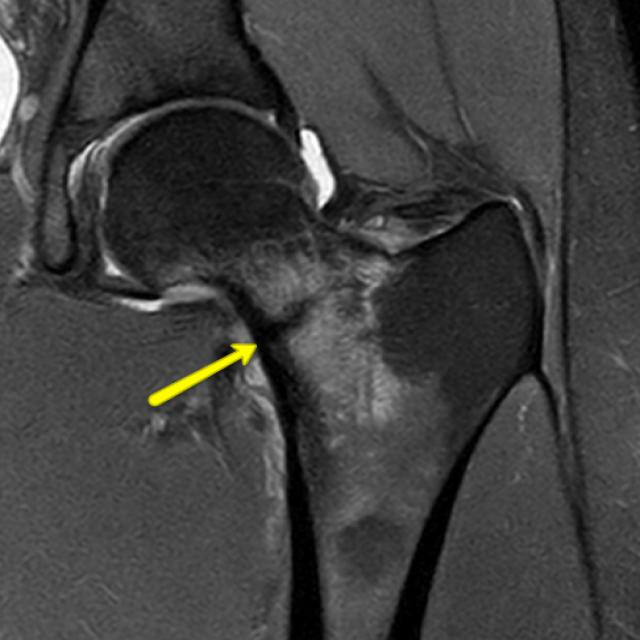Transverse Displaced: (255, 260, 394, 356)
